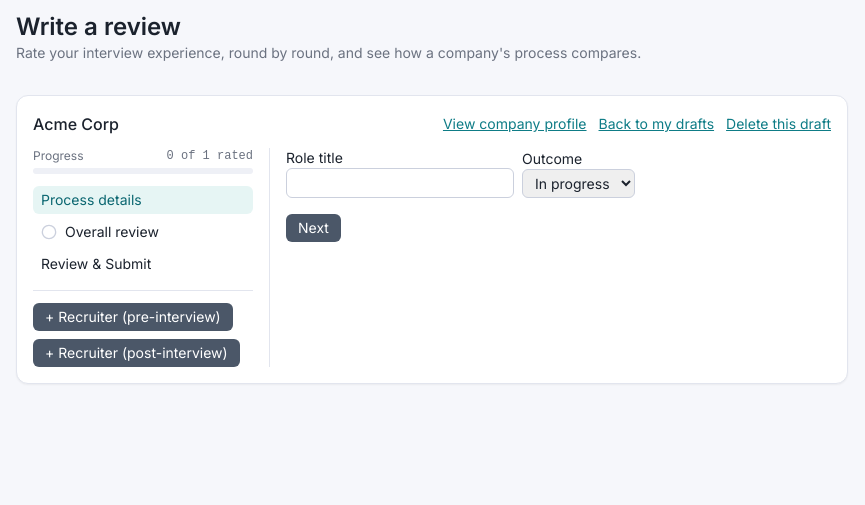
Test: Wizard step navigation (GitHub issue #254) › shows the recruiter step's timing as read-only text, already chosen at add-time (GitHub issue #285)
This screenshot has width=865, height=505.
Check: the heading "Acme Corp" is shown, box [33,112,119,136]
Type "Backend Engineer" into the field labelled "Role title" at x=400, y=183, box [286,168,514,198]
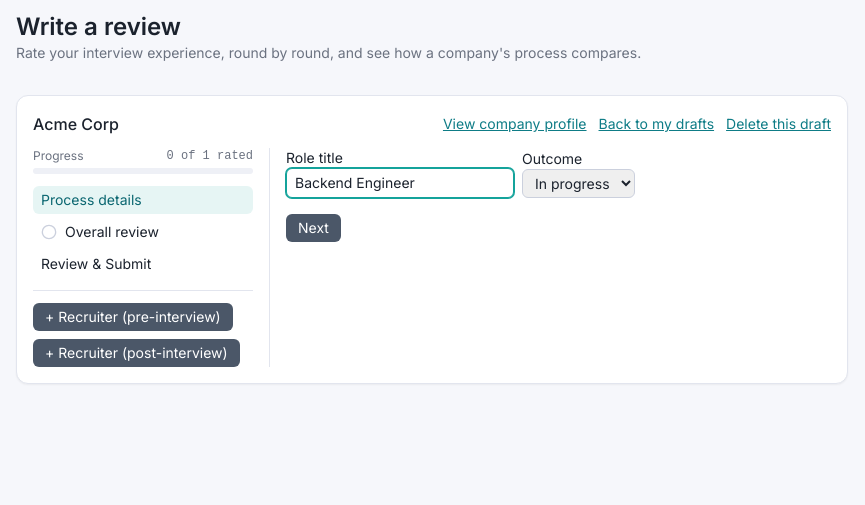
Click the button "+ Recruiter (pre-interview)" at x=133, y=317, box [33,303,233,331]
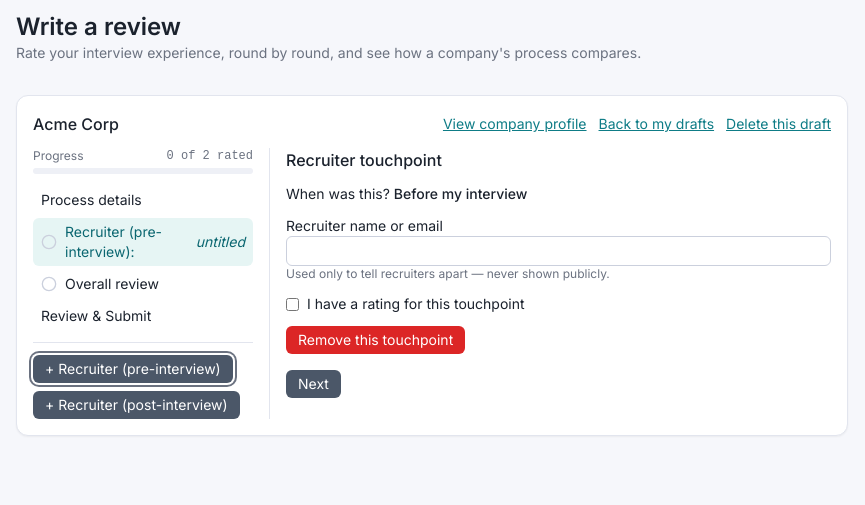
Check: the text "Before my interview" is shown, box [394,185,527,202]
Click the button "+ Recruiter (post-interview)" at x=136, y=405, box [33,391,240,419]
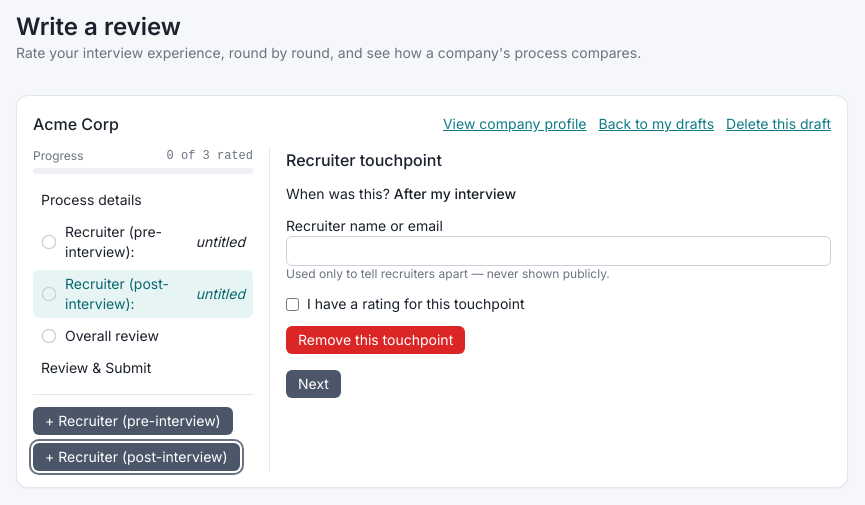
Check: the text "After my interview" is shown, box [394,185,516,202]
